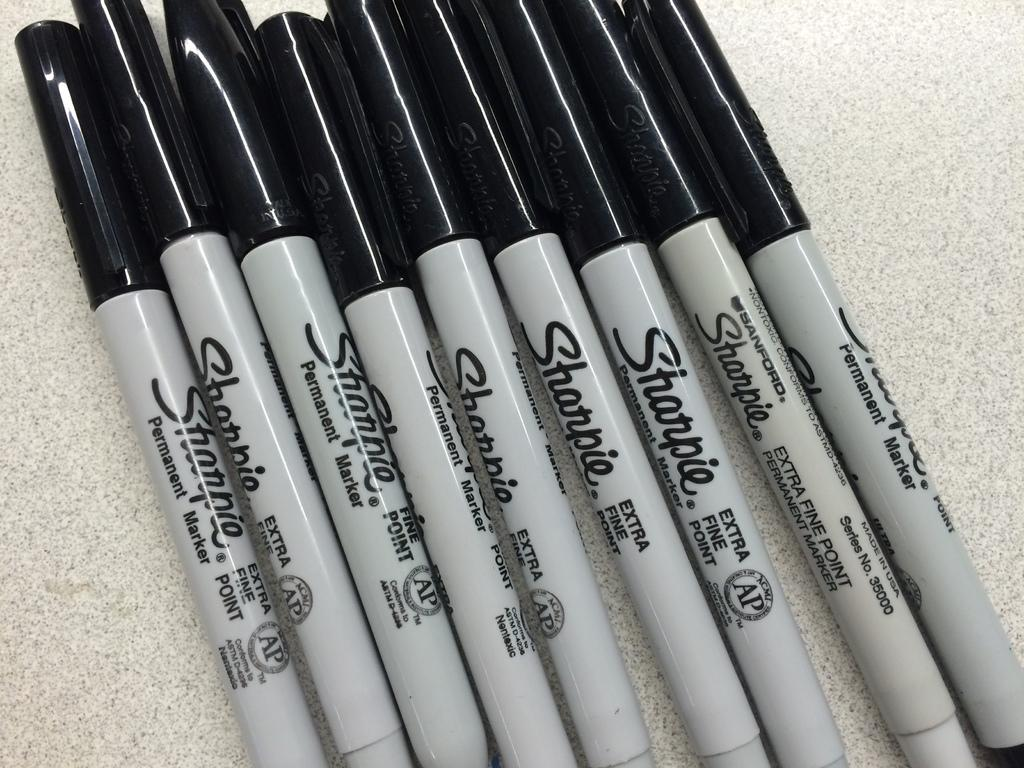pen: (6, 0, 1023, 759)
